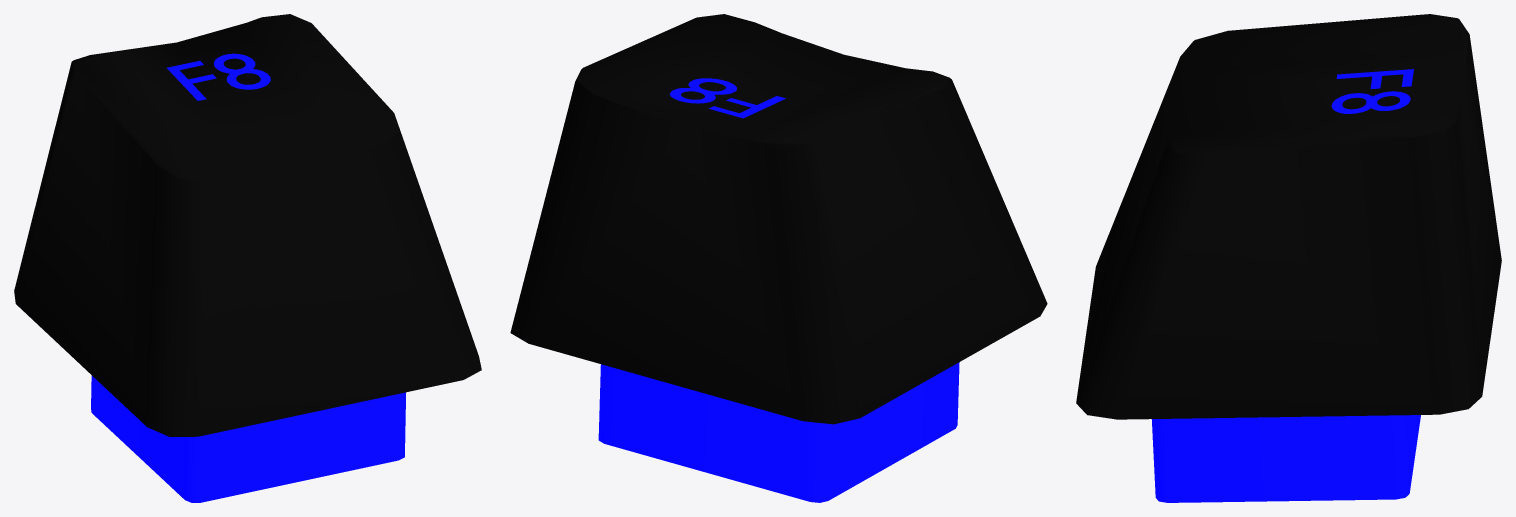
Rendered from f8-Dkl6QpUt.glb.
3 views of the same model, side by side, from view 1: azimuth 30°, elevation 25°; view 2: azimuth 150°, elevation 25°; view 3: azimuth 270°, elevation 25° (orthographic). The views are drawn at different scales.
Parts seen in each view (by area): view 1: StudyShelf_1123; view 2: StudyShelf_1123; view 3: StudyShelf_1123.
Part boxes in pixels (left/top/right/bottom): StudyShelf_1123: left=14, top=14, right=481, bottom=502; StudyShelf_1123: left=510, top=14, right=1047, bottom=502; StudyShelf_1123: left=1076, top=14, right=1501, bottom=502.
Size of the model in its own units: 4.35 by 4.28 by 4.35.
